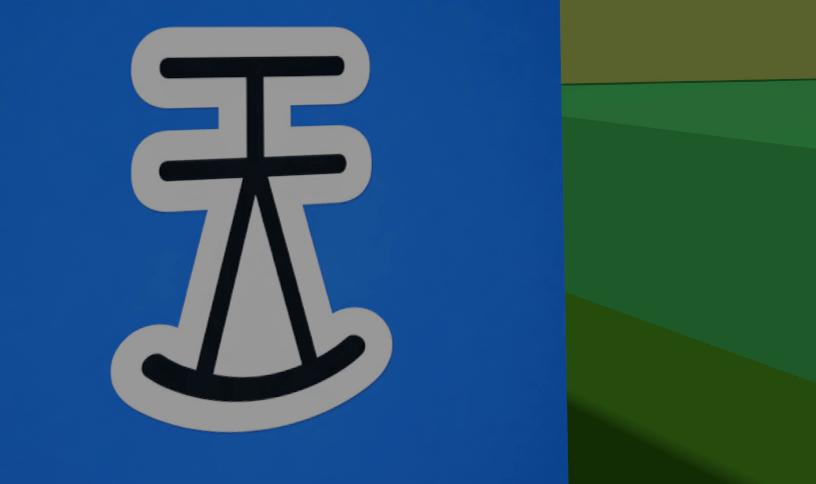KFS_REAL: (0, 0, 566, 483), (110, 27, 391, 432)
